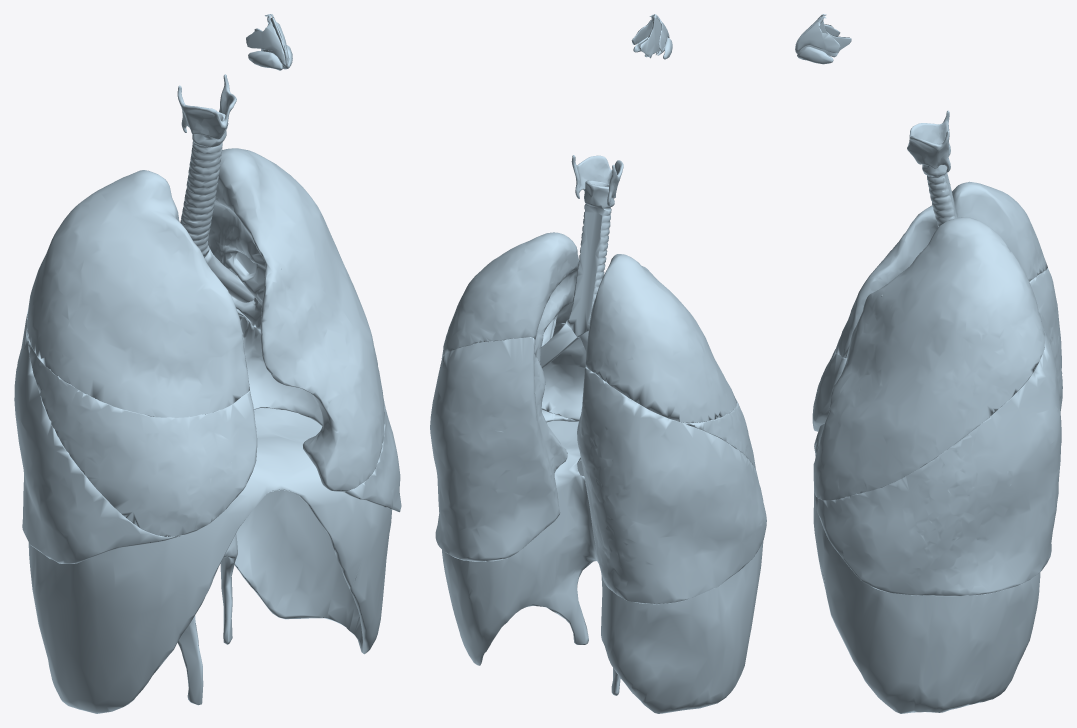
File: respiratorio.glb
3 renders of one model, left to right at view 1: azimuth 30°, elevation 25°; view 2: azimuth 150°, elevation 25°; view 3: azimuth 270°, elevation 25°, orthographic. The views are drawn at different scales.
Parts seen in each view (by area): view 1: FMA13295, FMA7333, FMA7370, FMA7383, FMA7337, FMA7371, FMA7394, FMA55099, FMA71704, FMA7409; view 2: FMA13295, FMA7337, FMA7371, FMA7333, FMA7370, FMA7394, FMA7383, FMA55099, FMA71704, FMA7409; view 3: FMA7370, FMA7371, FMA13295, FMA7333, FMA7337, FMA55099, FMA71704, FMA7394, FMA7383.
Boxes of the visible parts, x1,y1,x2,y2 form: FMA13295: [28, 408, 391, 713]; FMA7333: [27, 170, 249, 417]; FMA7370: [208, 148, 384, 491]; FMA7383: [27, 330, 257, 536]; FMA7337: [14, 311, 179, 563]; FMA7371: [237, 310, 401, 512]; FMA7394: [180, 111, 226, 257]; FMA55099: [177, 74, 236, 139]; FMA71704: [246, 14, 292, 70]; FMA7409: [204, 248, 281, 302]; FMA13295: [442, 420, 763, 713]; FMA7337: [577, 367, 766, 604]; FMA7371: [430, 337, 577, 561]; FMA7333: [585, 254, 736, 422]; FMA7370: [441, 232, 586, 421]; FMA7394: [566, 180, 614, 337]; FMA7383: [684, 400, 755, 469]; FMA55099: [571, 155, 623, 205]; FMA71704: [631, 14, 672, 59]; FMA7409: [540, 322, 588, 368]; FMA7370: [813, 217, 1045, 500]; FMA7371: [815, 329, 1061, 596]; FMA13295: [813, 423, 1040, 713]; FMA7333: [835, 181, 1047, 358]; FMA7337: [1029, 268, 1062, 410]; FMA55099: [907, 110, 950, 172]; FMA71704: [795, 14, 851, 64]; FMA7394: [922, 143, 958, 226]; FMA7383: [812, 349, 847, 431].
Bounding box in the file's own units: 0.2532 × 0.5295 × 0.1935.
